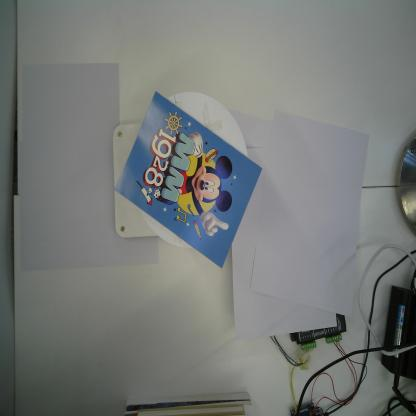Stationery: (114, 91, 262, 270)
